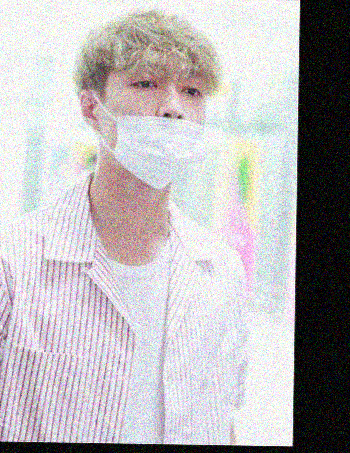mask_weared_incorrect: (102, 72, 210, 193)
